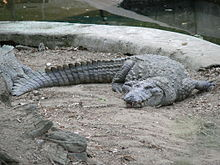Crocodile: (13, 56, 214, 109)
